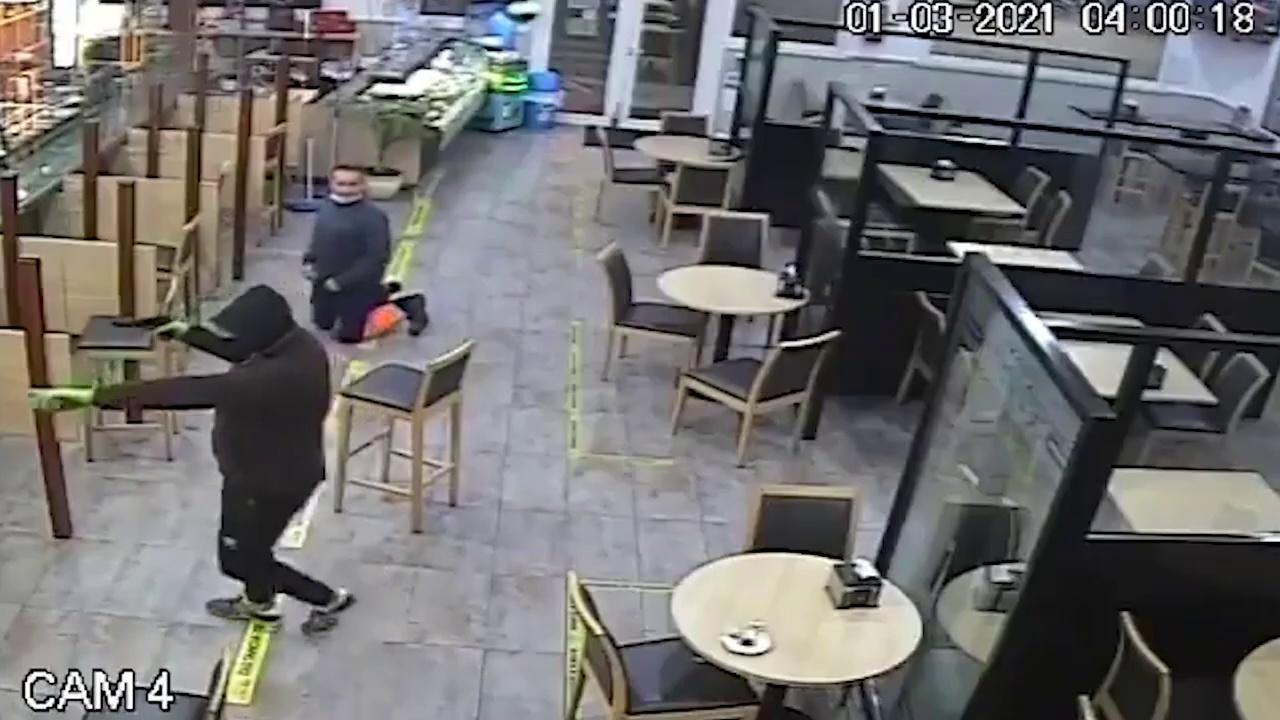Guns: (92, 302, 192, 351)
